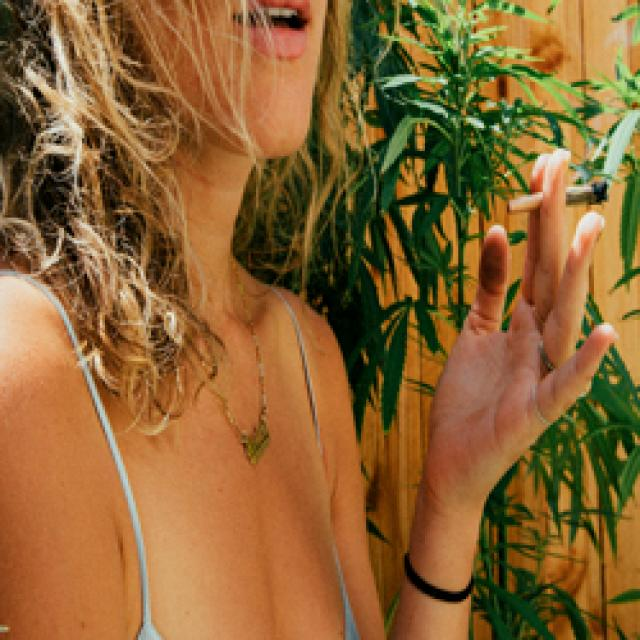Smooking: (492, 158, 616, 232)
